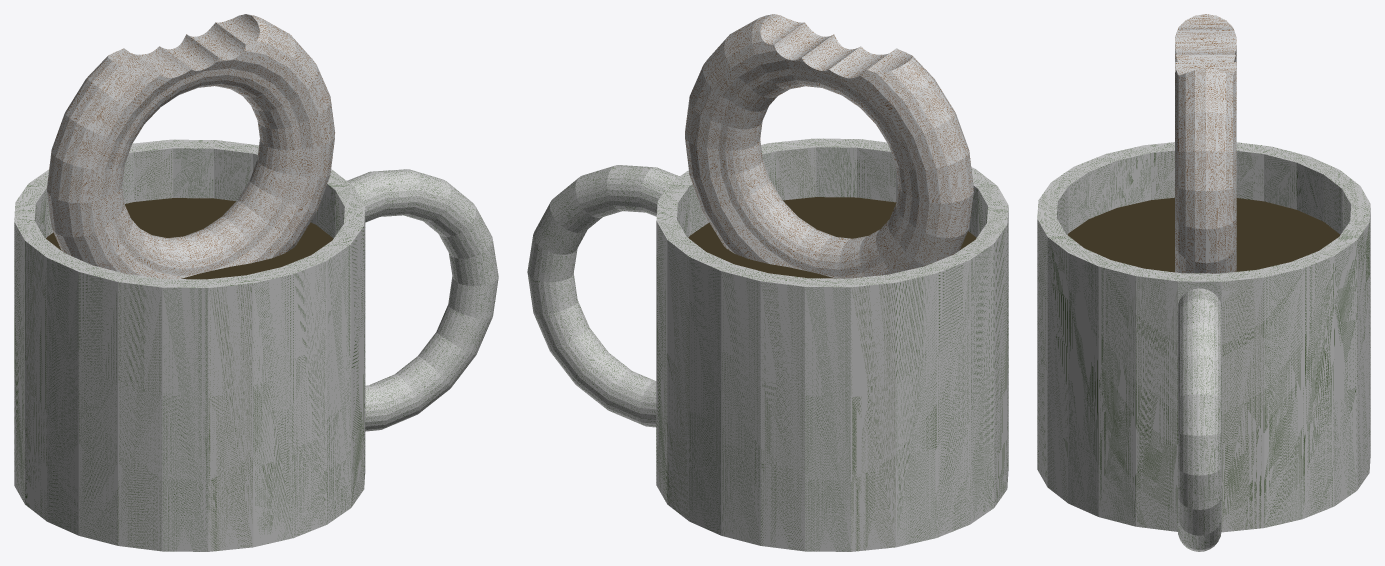
3 views of the same model, side by side, from view 1: azimuth 30°, elevation 25°; view 2: azimuth 150°, elevation 25°; view 3: azimuth 270°, elevation 25° (orthographic). The views are drawn at different scales.
Visible parts, largest first — view 1: mesh2_mesh2-geometry, mesh1_mesh1-geometry; view 2: mesh2_mesh2-geometry, mesh1_mesh1-geometry; view 3: mesh2_mesh2-geometry, mesh1_mesh1-geometry.
Part boxes in pixels (x1,y1,x2,y2): mesh2_mesh2-geometry: (14,139,498,551); mesh1_mesh1-geometry: (47,14,335,278); mesh2_mesh2-geometry: (527,138,1008,551); mesh1_mesh1-geometry: (685,14,973,278); mesh2_mesh2-geometry: (1037,142,1370,551); mesh1_mesh1-geometry: (1175,14,1236,273).
Bounding box in the file's own units: 0.6568 × 0.6135 × 0.4385.
